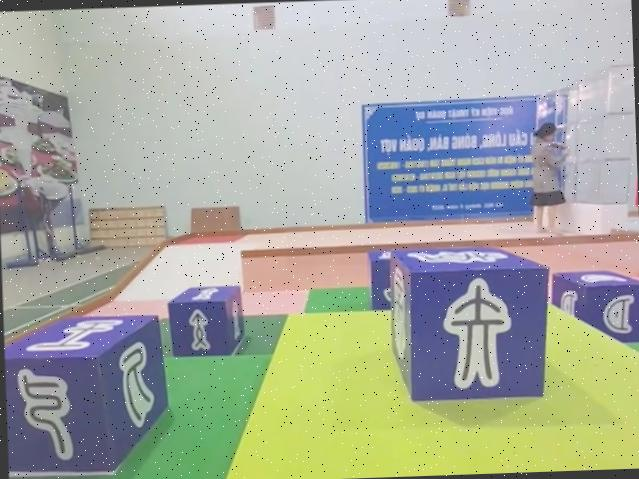R2 Fake Blue: (3, 312, 170, 478), (389, 245, 553, 404)
R2 Real Blue: (549, 266, 639, 344), (166, 284, 244, 359)
